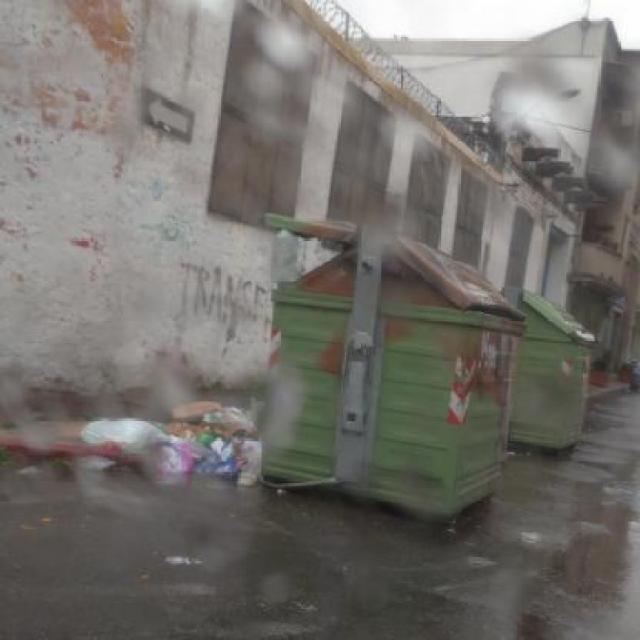garbage: (65, 385, 262, 495)
